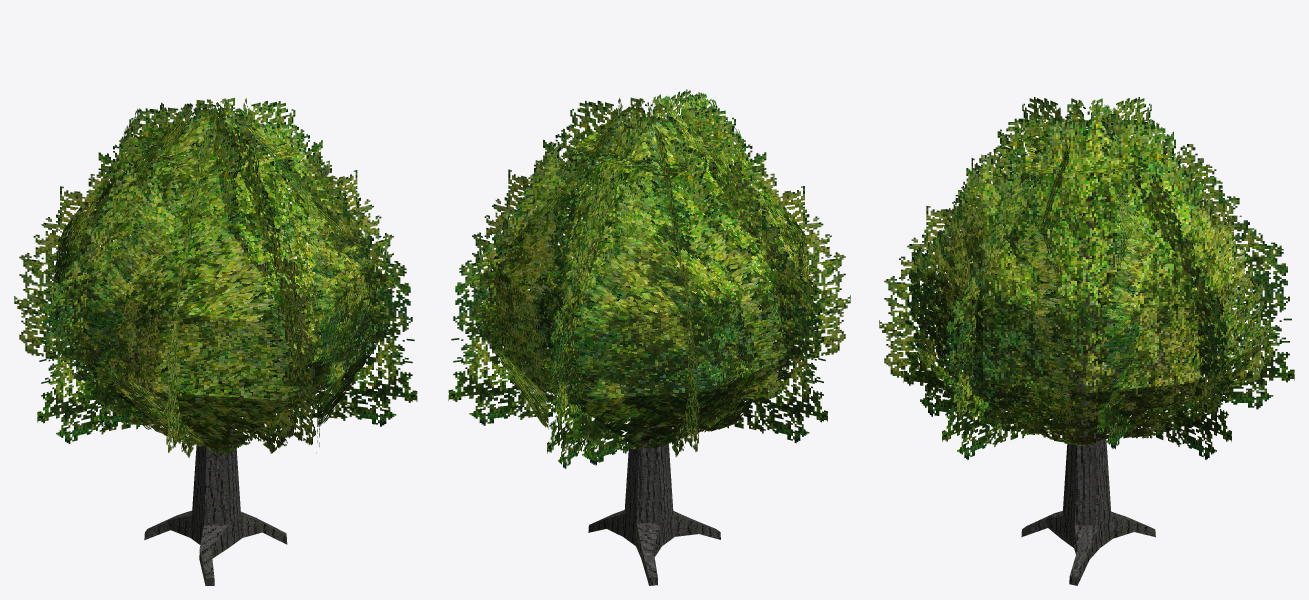
Rendered from tree.glb.
3 views of the same model, side by side, from view 1: azimuth 30°, elevation 25°; view 2: azimuth 150°, elevation 25°; view 3: azimuth 270°, elevation 25° (orthographic).
Visible parts, largest first — view 1: tree01_top, tree01; view 2: tree01_top, tree01; view 3: tree01_top, tree01.
Boxes of the visible parts, box(x1,y1,x2,y2) form: tree01_top: box(14, 97, 417, 457); tree01: box(144, 207, 287, 585); tree01_top: box(448, 89, 850, 468); tree01: box(588, 207, 720, 585); tree01_top: box(879, 97, 1294, 459); tree01: box(1021, 192, 1155, 585).
Bounding box in the file's own units: 3.36 × 4.04 × 3.36.
Materials: 1 (1 with a texture image).
